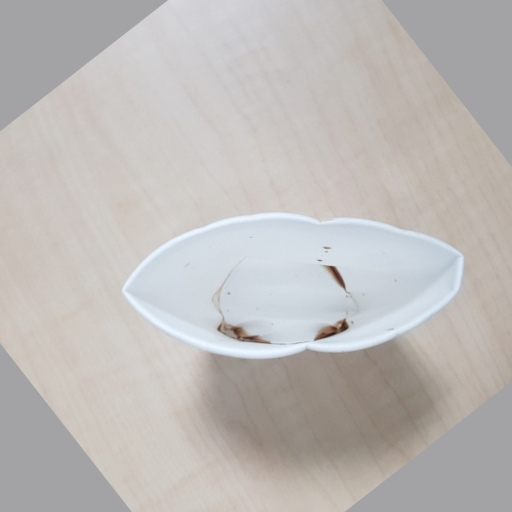Paper_1: (123, 203, 464, 355)
